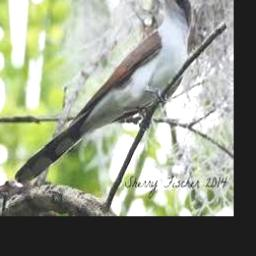Cuckoo: (14, 0, 191, 184)
